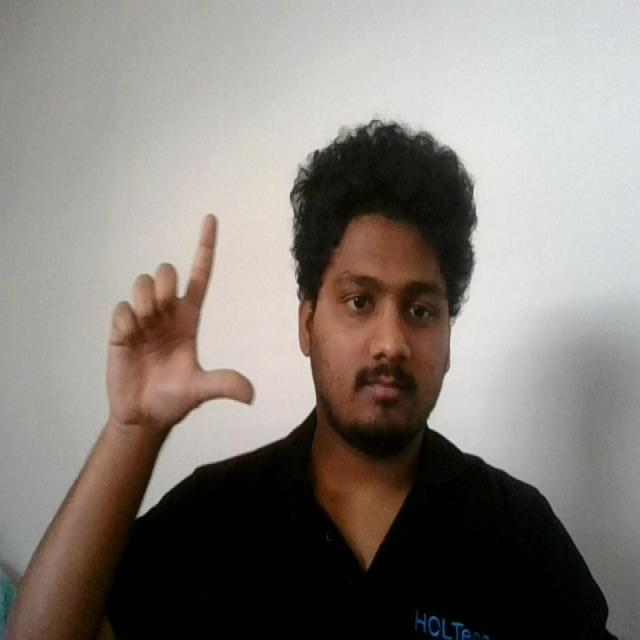IloveYou: (98, 198, 260, 445)
